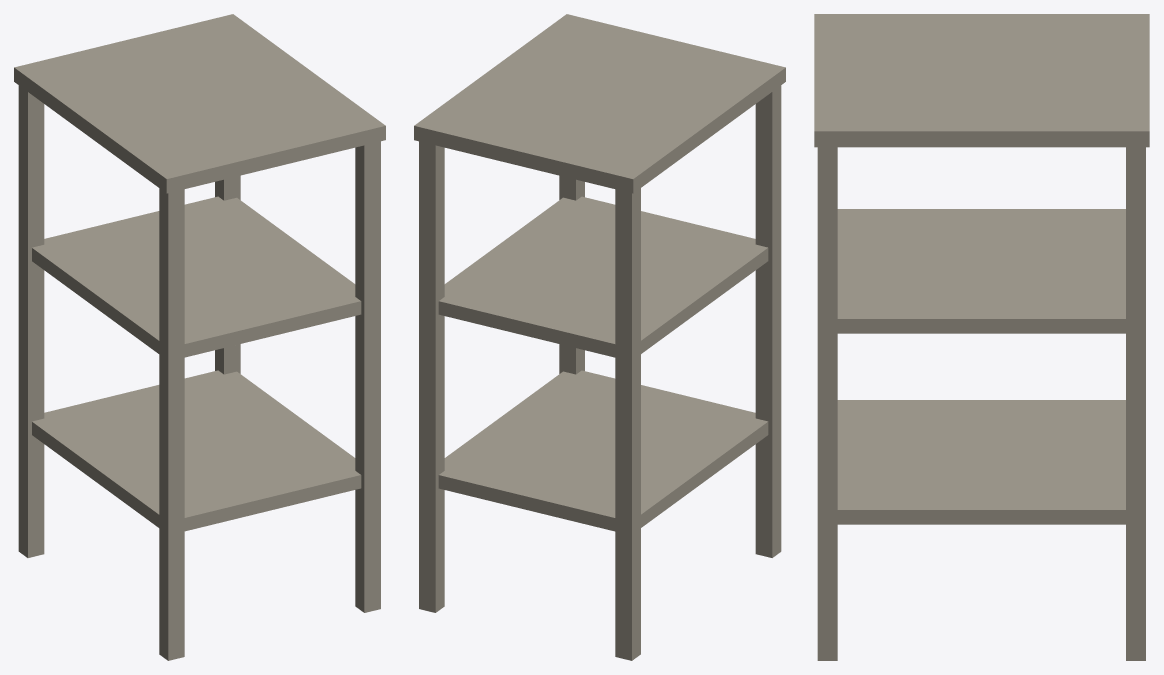
Rendered from SM_Cupboard_11.glb.
The picture shows the model from 3 angles, left to right: view 1: azimuth 30°, elevation 25°; view 2: azimuth 150°, elevation 25°; view 3: azimuth 270°, elevation 25°; orthographic projection. The views are drawn at different scales.
Visible parts, largest first — view 1: SM_Cupboard_11; view 2: SM_Cupboard_11; view 3: SM_Cupboard_11.
Boxes of the visible parts, box(x1,y1,x2,y2) form: SM_Cupboard_11: box(14, 14, 385, 660); SM_Cupboard_11: box(414, 14, 785, 660); SM_Cupboard_11: box(814, 14, 1149, 660).
Bounding box in the file's own units: 0.5523 × 1.16 × 0.6666.
1 material, 1 textured.
